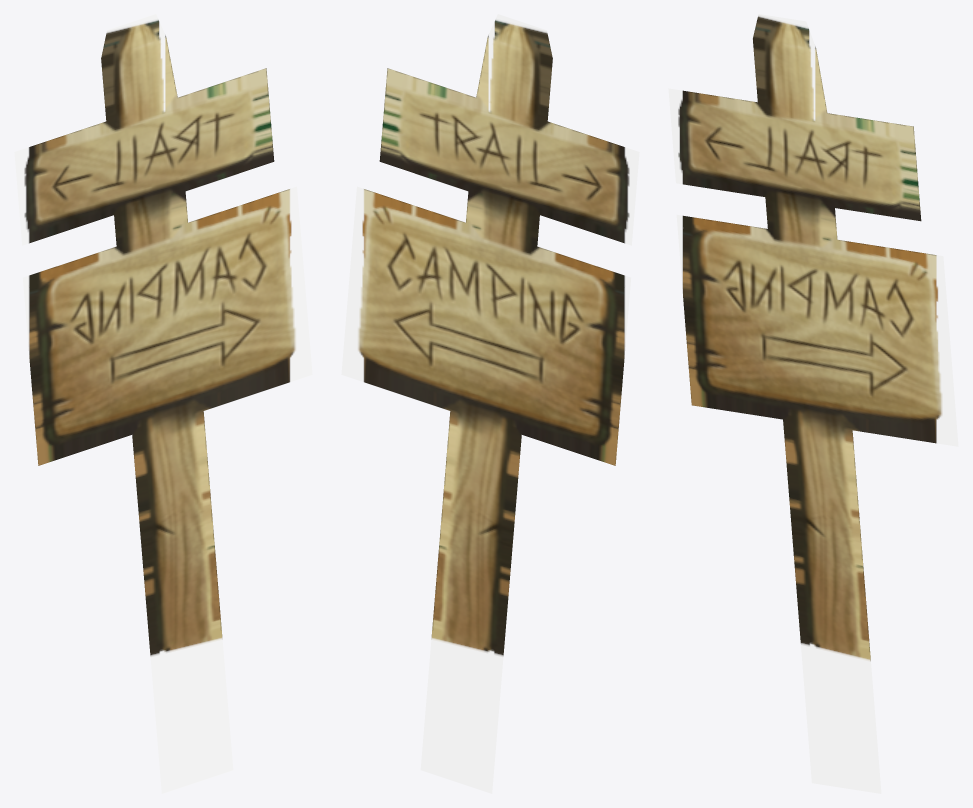
File: SIGN.fbx
3 views of the same model, side by side, from view 1: azimuth 30°, elevation 25°; view 2: azimuth 150°, elevation 25°; view 3: azimuth 330°, elevation 25° (orthographic). The views are drawn at different scales.
Parts seen in each view (by area): view 1: SIGN; view 2: SIGN; view 3: SIGN.
Boxes of the visible parts, <box> form: SIGN: <box>14,14,312,793</box>; SIGN: <box>341,14,639,793</box>; SIGN: <box>668,14,958,793</box>.
Bounding box in the file's own units: 32.64 × 81.74 × 2.59e-06.
